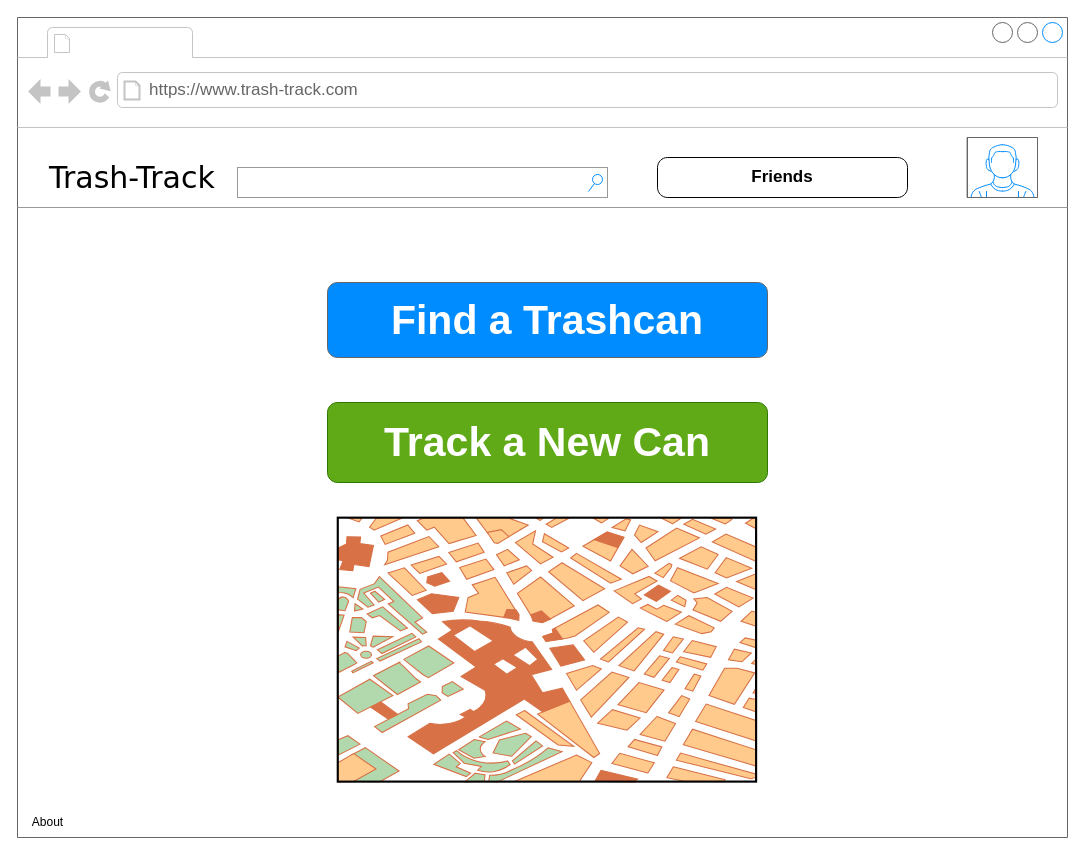
Image size: 1085x855. Some labels were removed from this diagram. Here are the shapes that lost their labels. From the top down, the box of each, then its label:
(76, 28, 188, 56): Page 1
(236, 166, 608, 198): Search
